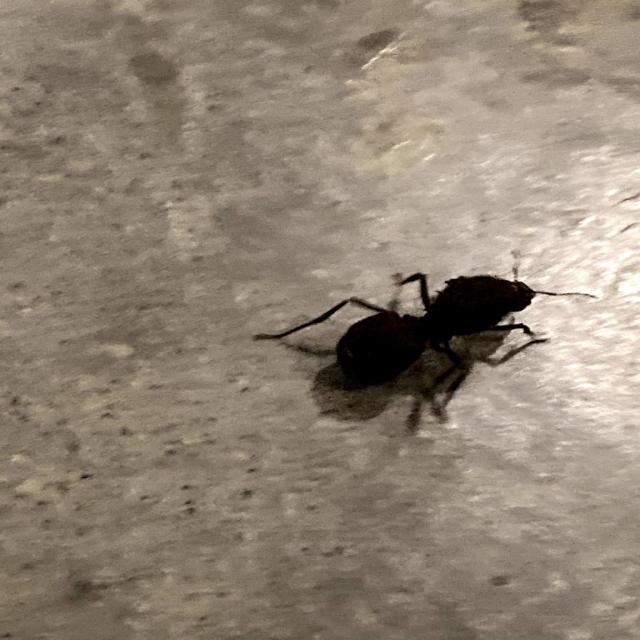Alive-Female-Dealate: (252, 250, 600, 394)
